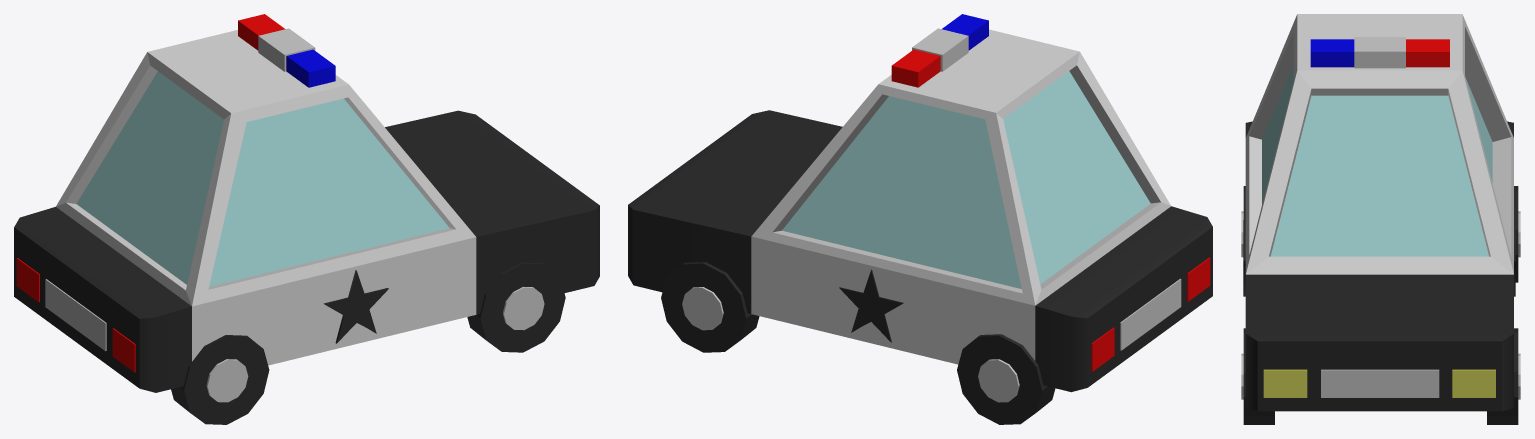
Rendered from Carro Policia.fbx.
3 views of the same model, side by side, from view 1: azimuth 30°, elevation 25°; view 2: azimuth 150°, elevation 25°; view 3: azimuth 270°, elevation 25° (orthographic).
Visible parts, largest first — view 1: pCube84; view 2: pCube84; view 3: pCube84.
Part boxes in pixels (left/top/right/bottom): pCube84: left=14, top=14, right=599, bottom=424; pCube84: left=628, top=14, right=1212, bottom=424; pCube84: left=1241, top=14, right=1520, bottom=424.
Size of the model in its own units: 3.36 by 2.08 by 1.78.
